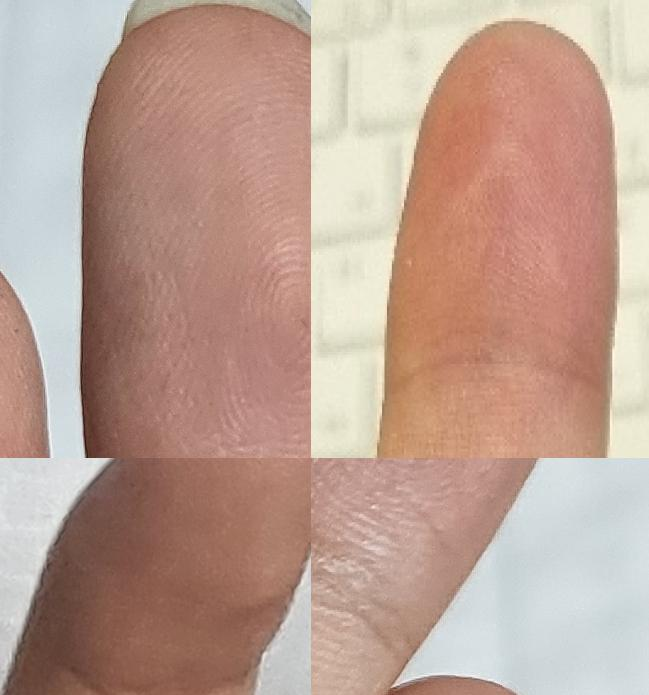Fingerprints: (87, 2, 311, 458), (384, 21, 619, 393), (25, 458, 311, 695), (311, 458, 541, 672)
